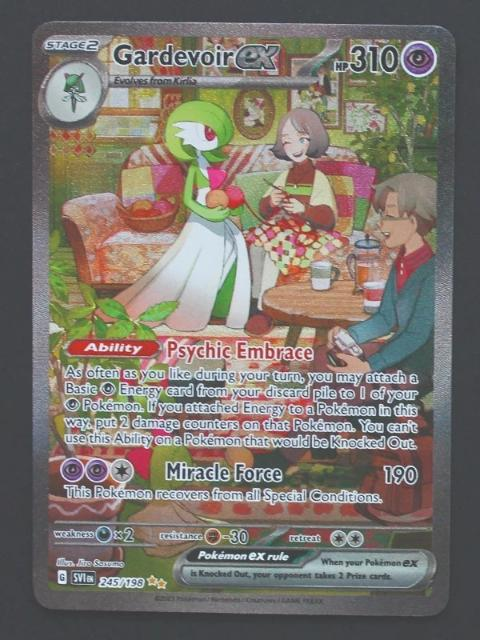Card: (28, 17, 460, 621)
Name: (107, 40, 290, 75)
